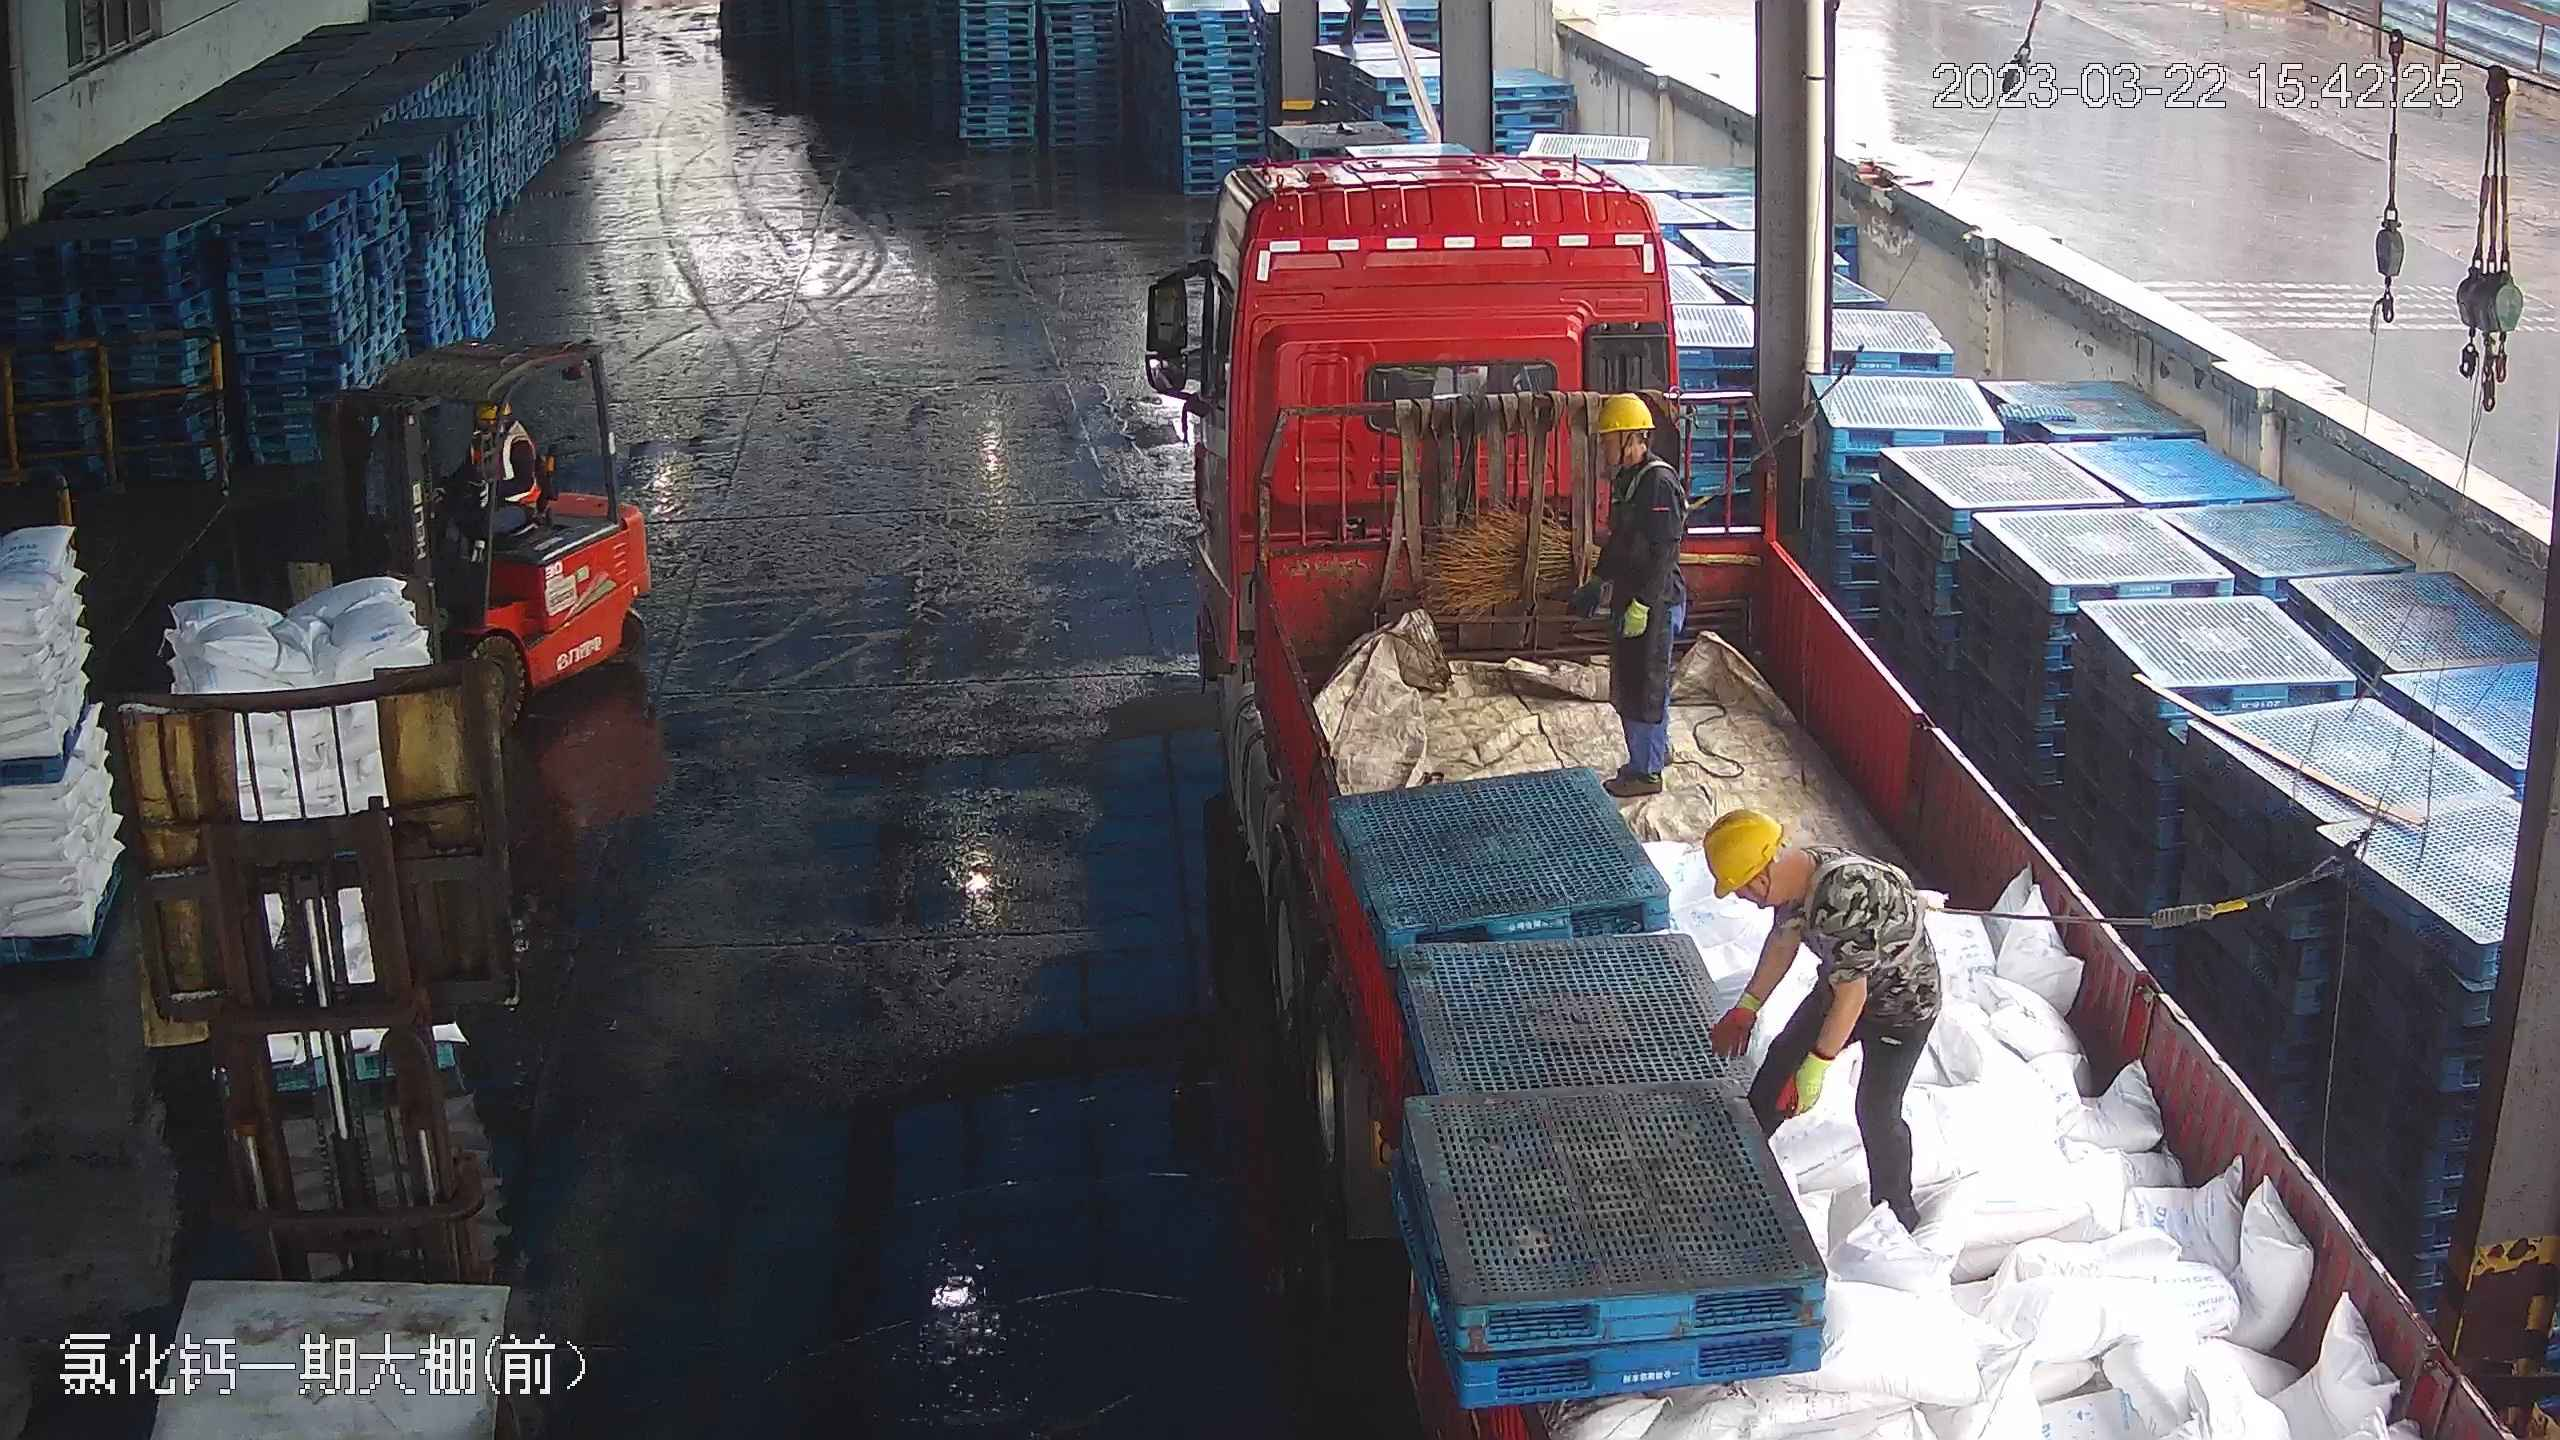belt: (1794, 847, 1931, 972), (1608, 457, 1699, 539)
head: (1705, 802, 1888, 948), (1592, 389, 1690, 515)
helmet: (1701, 805, 1783, 899), (1592, 389, 1657, 435)
people: (1707, 802, 1941, 1244), (1583, 389, 1693, 804)
truck: (1161, 149, 2456, 1438)
